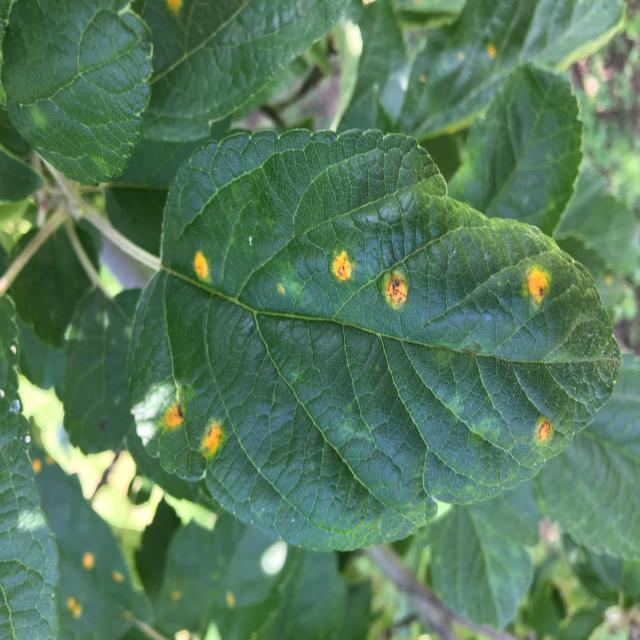Rust: (505, 242, 558, 341), (378, 247, 426, 346), (514, 403, 566, 490), (184, 227, 230, 311), (194, 404, 230, 508), (145, 379, 193, 456), (324, 223, 357, 309)
